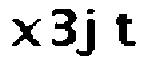3: (47, 6, 81, 48)
j: (78, 5, 101, 60)
t: (113, 12, 145, 52)
x: (9, 12, 41, 49)
